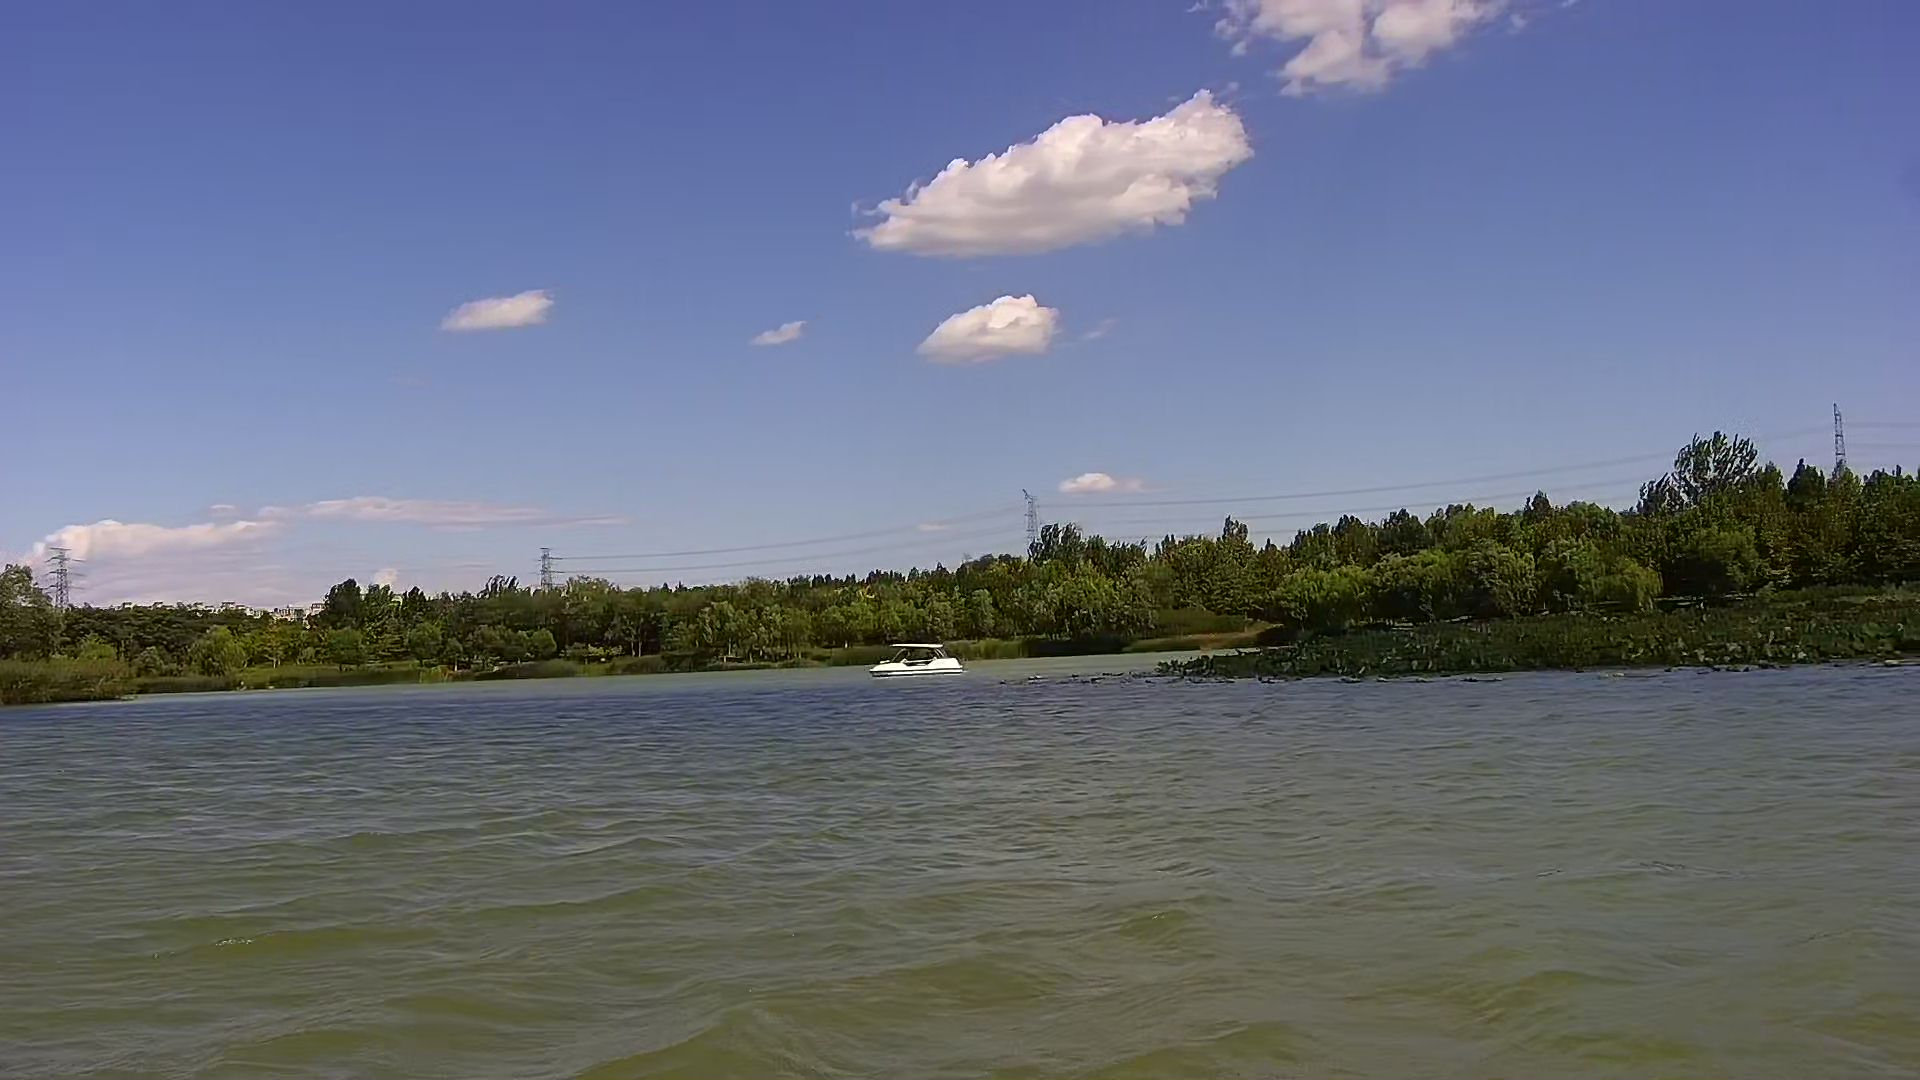boat: (869, 642, 971, 676)
